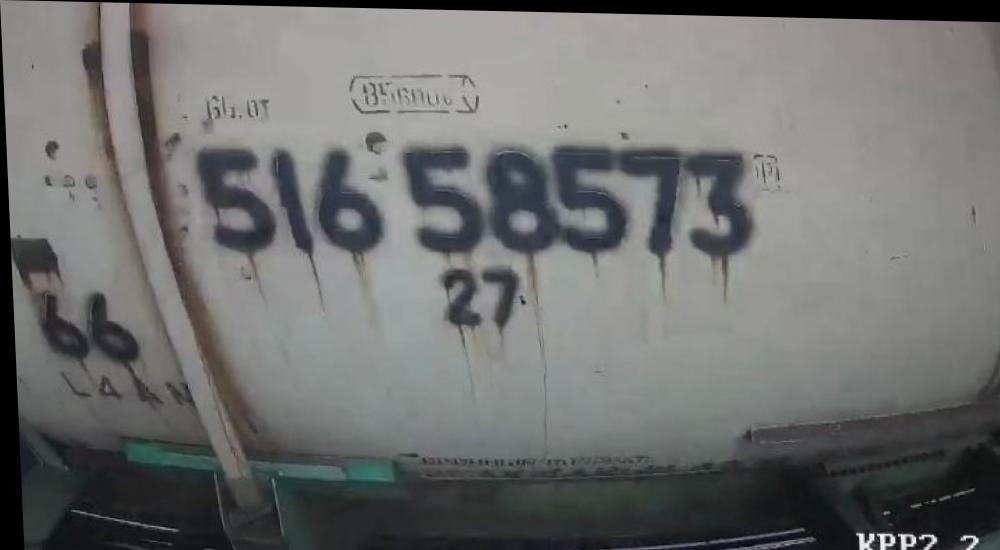Wagon-number: (185, 132, 761, 266)
